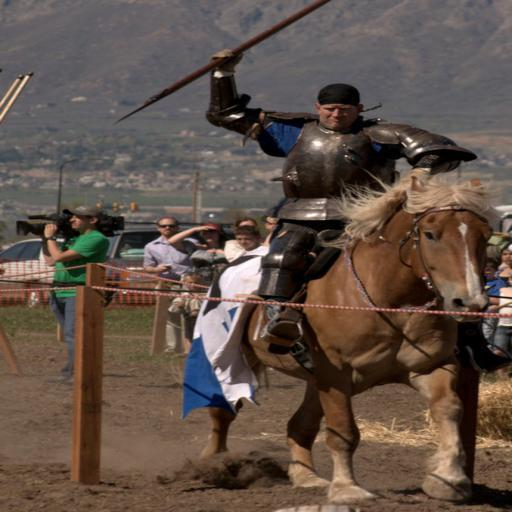horse: (186, 164, 505, 504)
